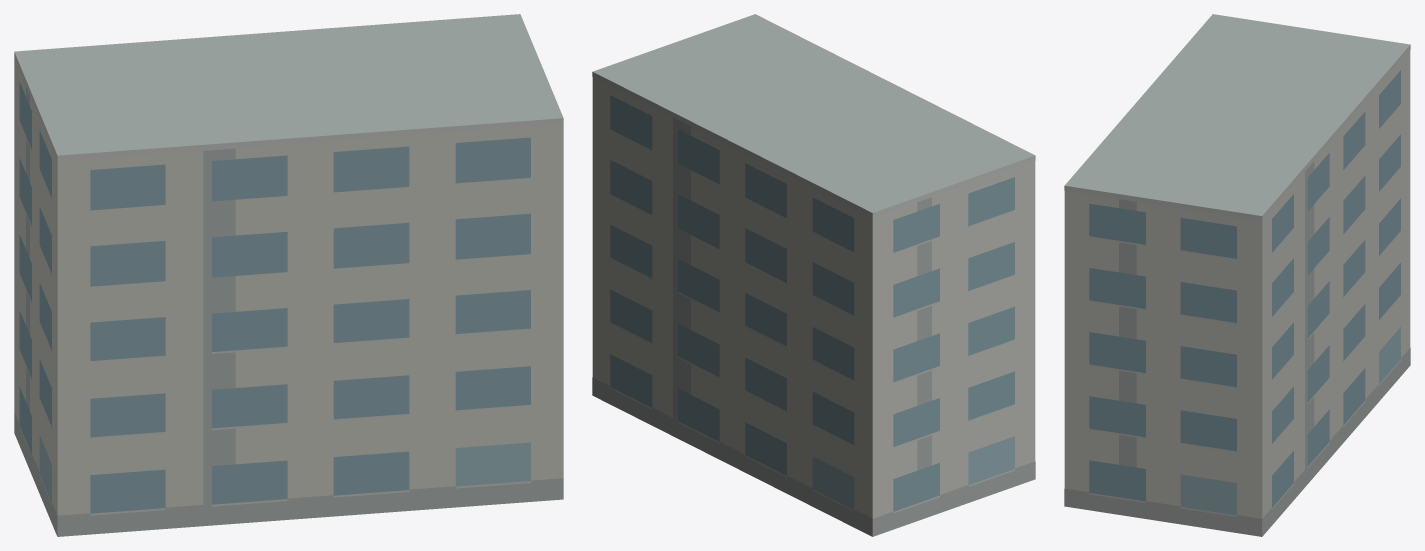
Rendered from residential-a07058da-8bc2-4bc3-86b7-380302871f36.glb.
The picture shows the model from 3 angles, left to right: view 1: azimuth 30°, elevation 25°; view 2: azimuth 150°, elevation 25°; view 3: azimuth 270°, elevation 25°; orthographic projection. The views are drawn at different scales.
Visible parts, largest first — view 1: residential-a07058da-8bc2-4bc3-86b7-380302871f36.tmp; view 2: residential-a07058da-8bc2-4bc3-86b7-380302871f36.tmp; view 3: residential-a07058da-8bc2-4bc3-86b7-380302871f36.tmp.
Boxes of the visible parts, x1,y1,x2,y2 form: residential-a07058da-8bc2-4bc3-86b7-380302871f36.tmp: (14, 14, 563, 536); residential-a07058da-8bc2-4bc3-86b7-380302871f36.tmp: (592, 14, 1035, 536); residential-a07058da-8bc2-4bc3-86b7-380302871f36.tmp: (1064, 14, 1410, 536).
Bounding box in the file's own units: 20.61 × 15.25 × 14.92.
